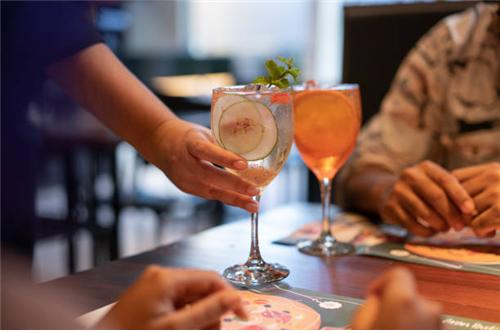alcohol: (210, 83, 293, 287), (283, 83, 364, 256)
